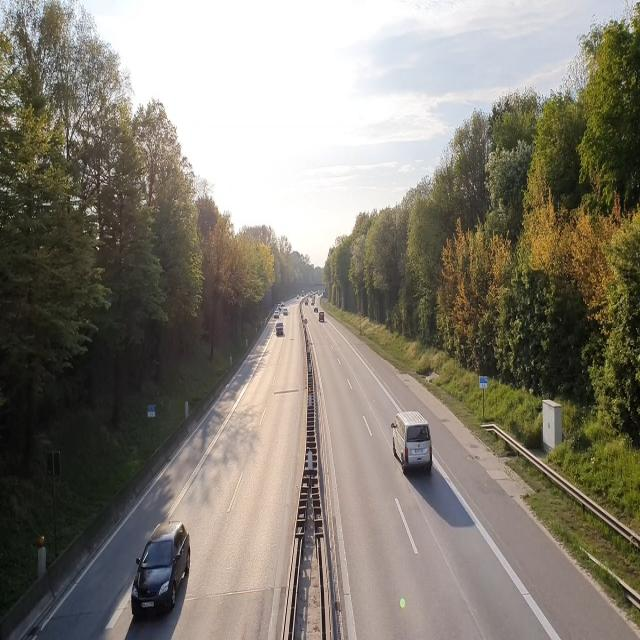Car: (130, 518, 193, 626), (390, 411, 434, 474), (274, 321, 286, 338), (316, 311, 327, 325)
